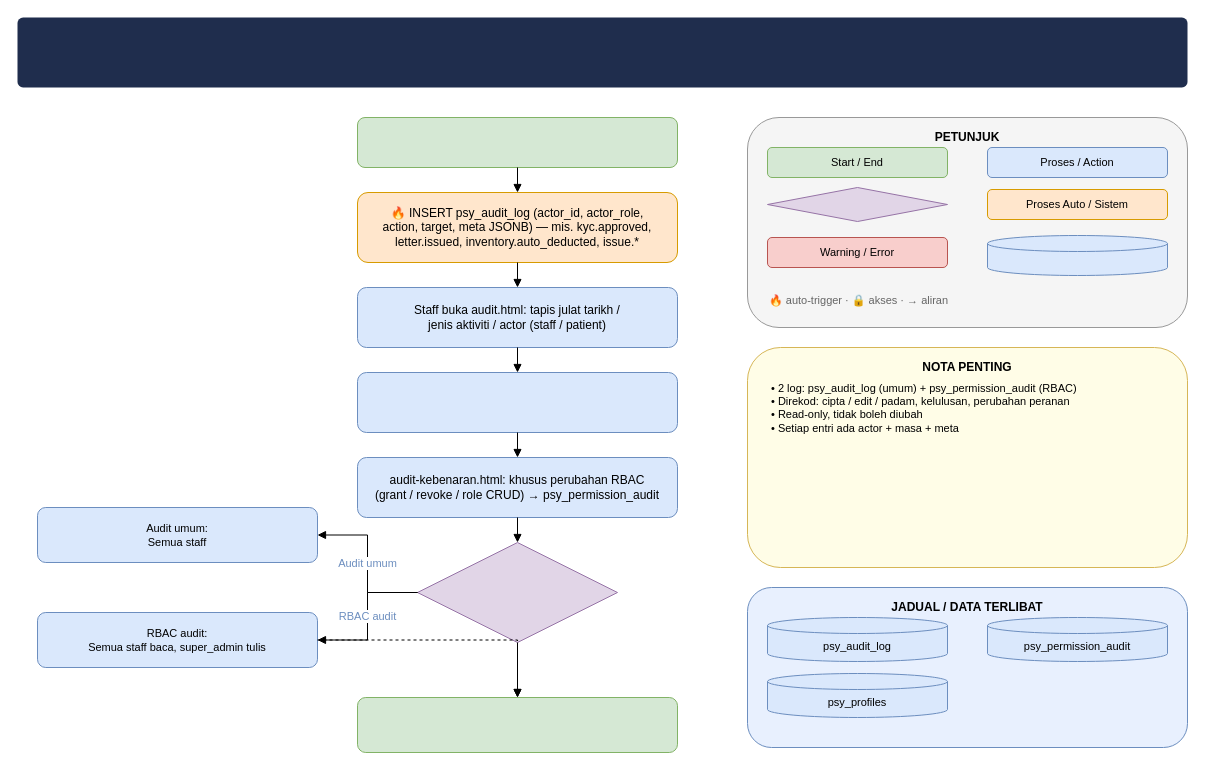
The diagram is 1205 pixels wide and 770 high, and some of its shapes have lost their labels. The shapes that lost their labels are listed below. From the top down, each one's centre as x and y in pixels, then its label:
At point (602, 52): "FLOW: AUDIT LOG Jejak semua aktiviti sistem dan perubahan kebenaran".
At point (517, 142): "START Setiap tindakan penting → auto-log".
At point (857, 204): "Keputusan / Decision".
At point (1077, 255): "Database".
At point (517, 402): "Jadual: Masa | Pengguna | Aktiviti | Butiran | IP. Read-only, paginated".
At point (517, 592): "Siapa boleh baca?".
At point (517, 724): "Jejak audit untuk pematuhan dan keselamatan".
